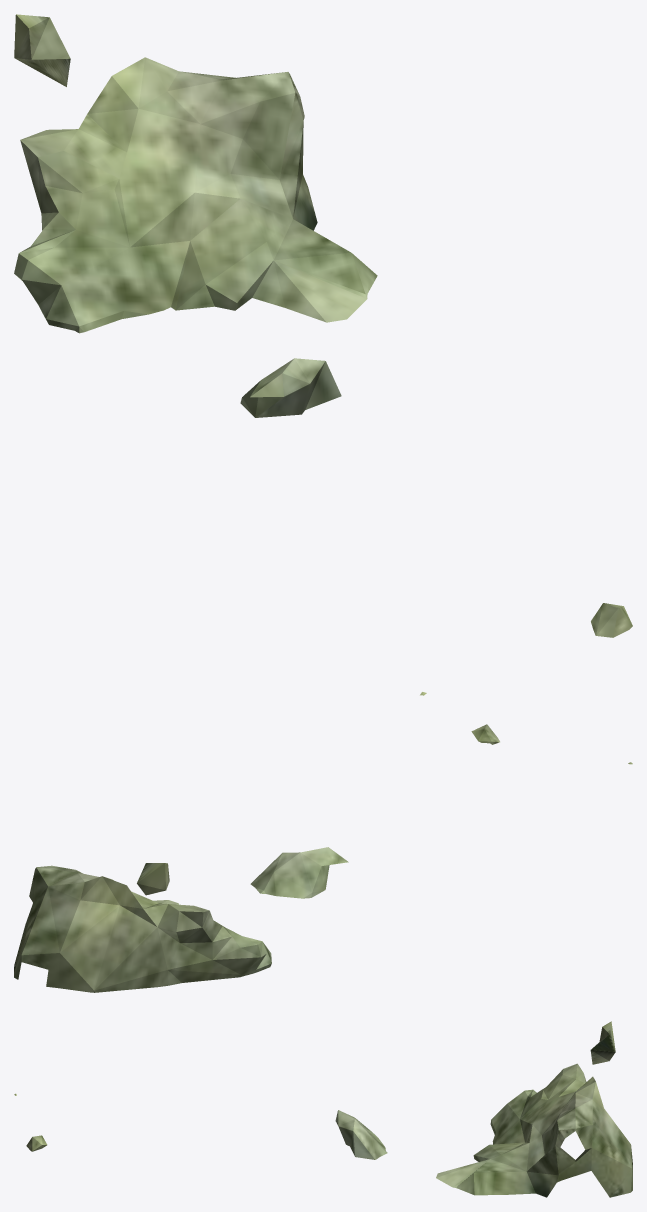
3 views of the same model, one above another, from view 1: azimuth 30°, elevation 25°; view 2: azimuth 150°, elevation 25°; view 3: azimuth 270°, elevation 25° (orthographic). The views are drawn at different scales.
Size of the model in its own units: 2.24 by 1.16 by 5.65.
1 material, 1 textured.
